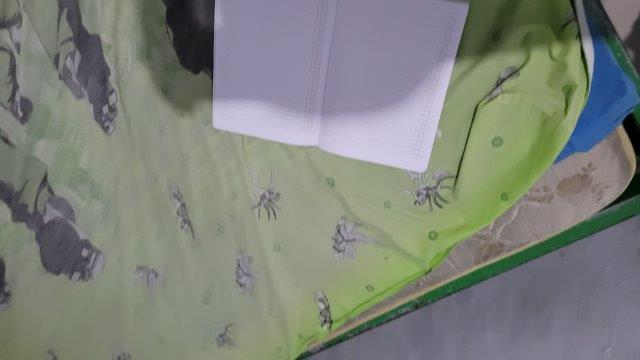kertas: (210, 1, 469, 173)
